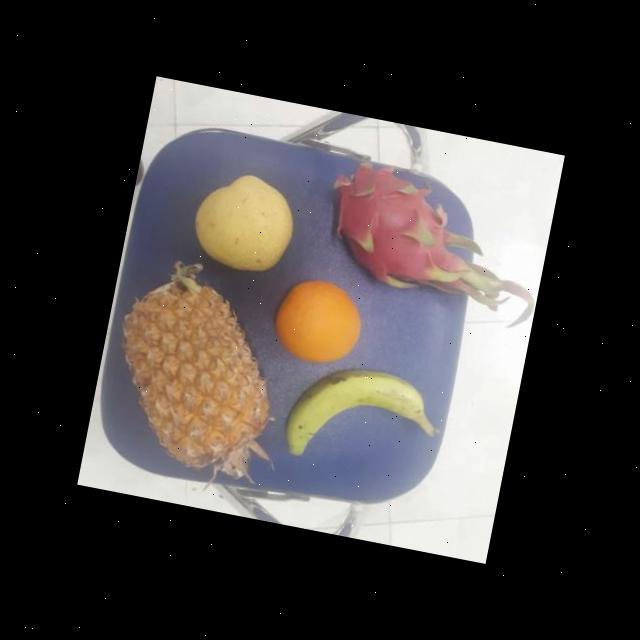banana: (277, 346, 435, 481)
orange: (270, 272, 370, 370)
pear: (183, 166, 304, 284)
pineapple: (92, 272, 297, 480)
pitaya: (316, 156, 466, 303)
